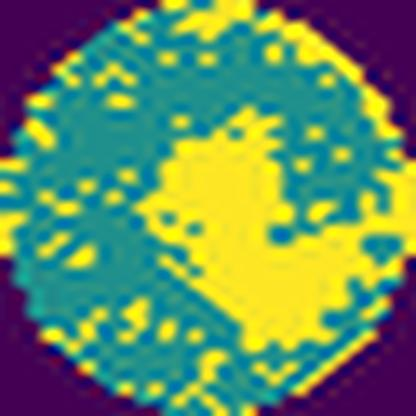Loc: (134, 102, 392, 360)
